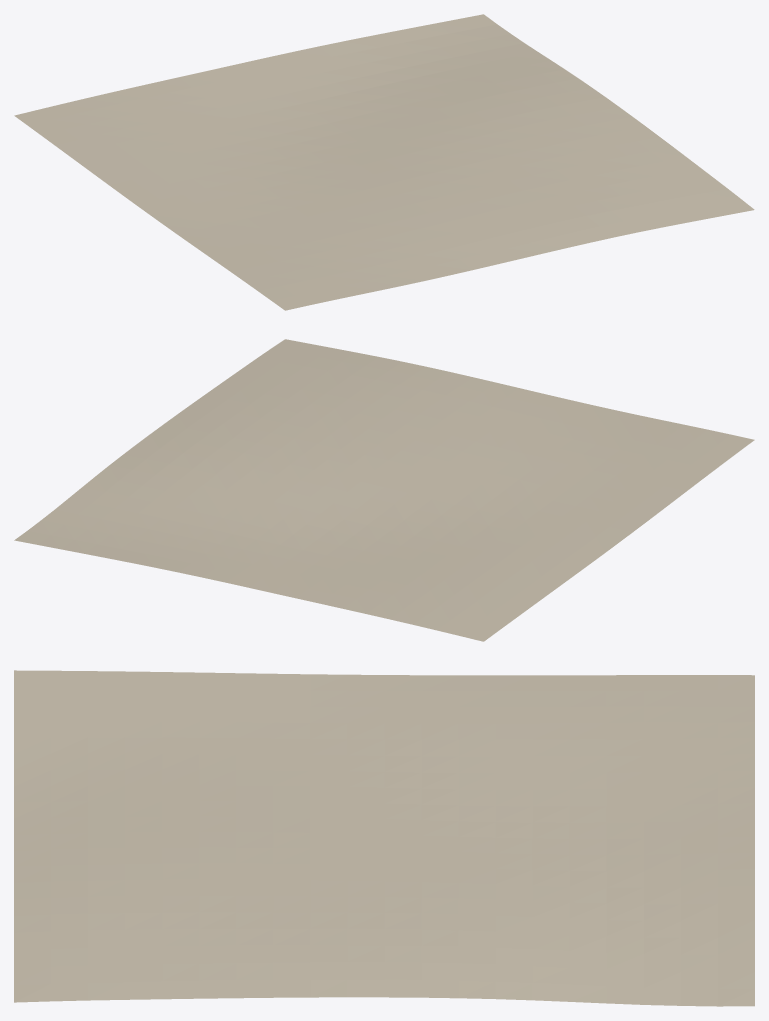
The model's file is bolak_-15_11.glb.
3 views of the same model, one above another, from view 1: azimuth 30°, elevation 25°; view 2: azimuth 150°, elevation 25°; view 3: azimuth 270°, elevation 25° (orthographic). The views are drawn at different scales.
Visible parts, largest first — view 1: Yer_Tuproq-col; view 2: Yer_Tuproq-col; view 3: Yer_Tuproq-col.
Part boxes in pixels (left/top/right/bottom): Yer_Tuproq-col: left=14, top=14, right=754, bottom=310; Yer_Tuproq-col: left=14, top=339, right=754, bottom=641; Yer_Tuproq-col: left=14, top=670, right=754, bottom=1006.
Bounding box in the file's own units: 400 × 13.63 × 400.
